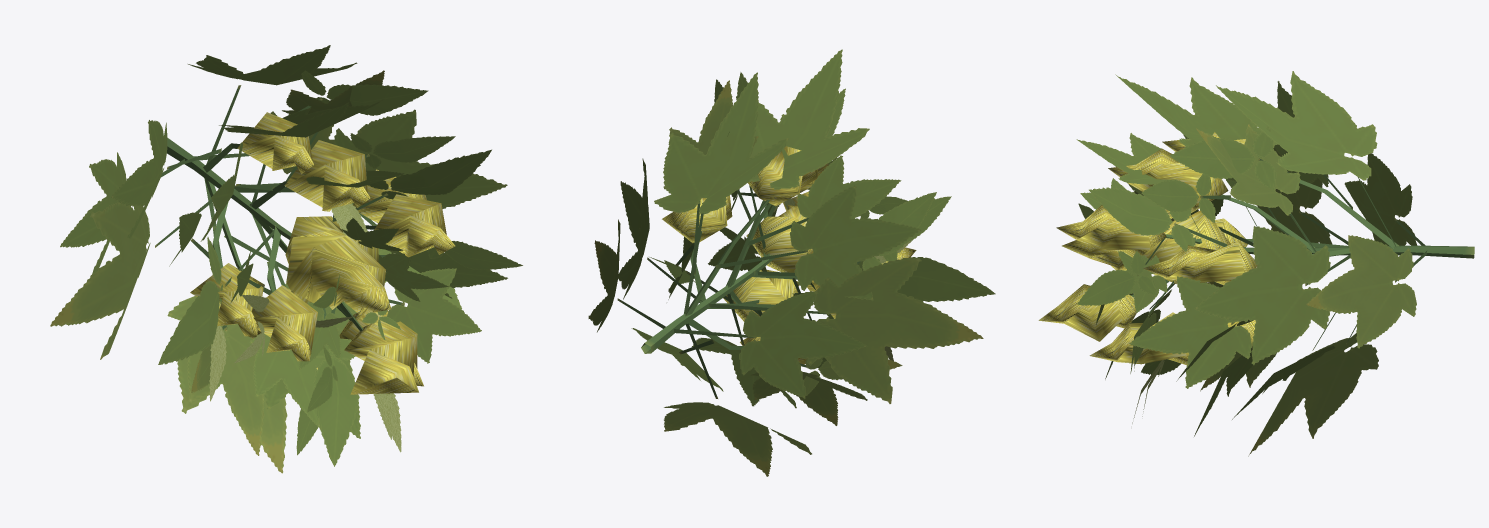
File: p_gold_afghan_ripe_c0_cards.obj
The picture shows the model from 3 angles, left to right: view 1: azimuth 30°, elevation 25°; view 2: azimuth 150°, elevation 25°; view 3: azimuth 270°, elevation 25°; orthographic projection. The views are drawn at different scales.
Bounding box in the file's own units: 1.45 × 1.41 × 1.25.
1 material, 1 textured.
